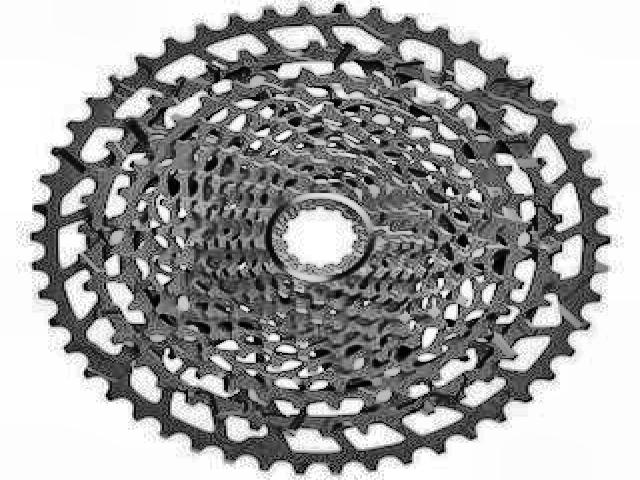cassette: (26, 4, 614, 474)
